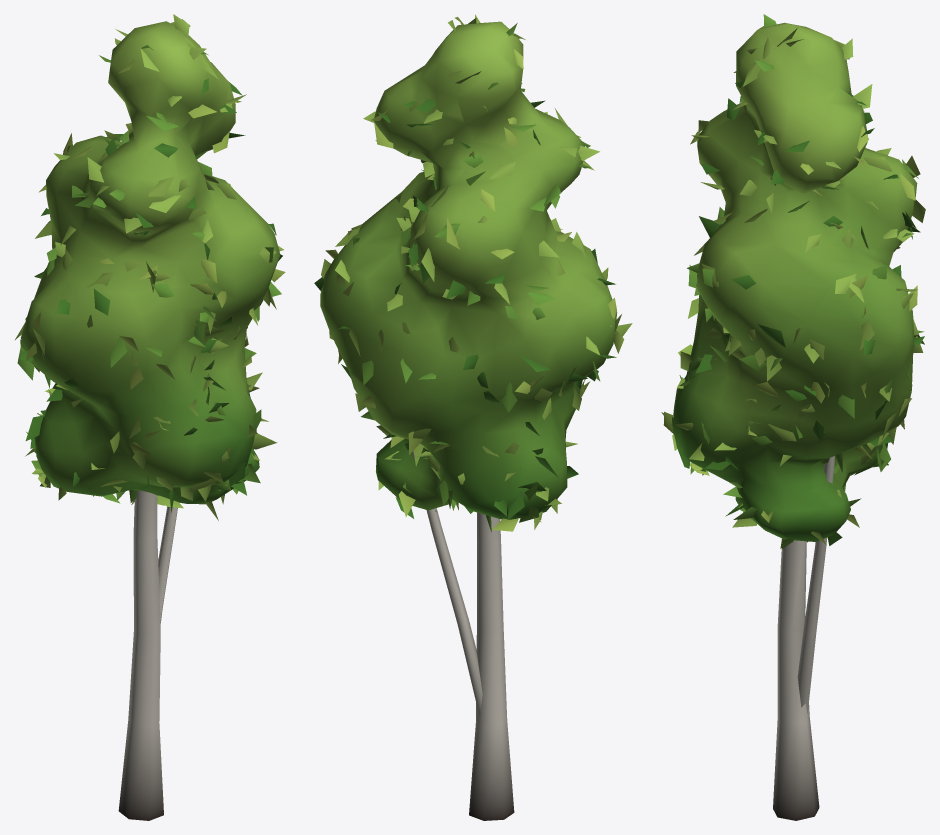
File: prop.tree_birch.glb
The picture shows the model from 3 angles, left to right: view 1: azimuth 30°, elevation 25°; view 2: azimuth 150°, elevation 25°; view 3: azimuth 270°, elevation 25°; orthographic projection.
Visible parts, largest first — view 1: tree_birch; view 2: tree_birch; view 3: tree_birch.
Part boxes in pixels (x1,y1,x2,y2): tree_birch: [15, 14, 285, 820]; tree_birch: [314, 14, 632, 820]; tree_birch: [661, 14, 925, 820].
Bounding box in the file's own units: 3.67 × 10.35 × 3.11.
